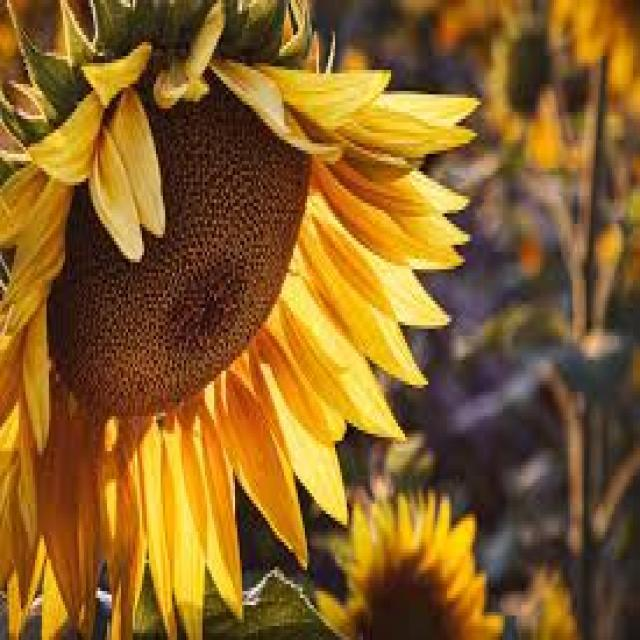sunflower: (0, 0, 477, 637), (314, 486, 505, 637), (484, 4, 584, 162), (550, 0, 640, 116), (522, 563, 584, 637)
